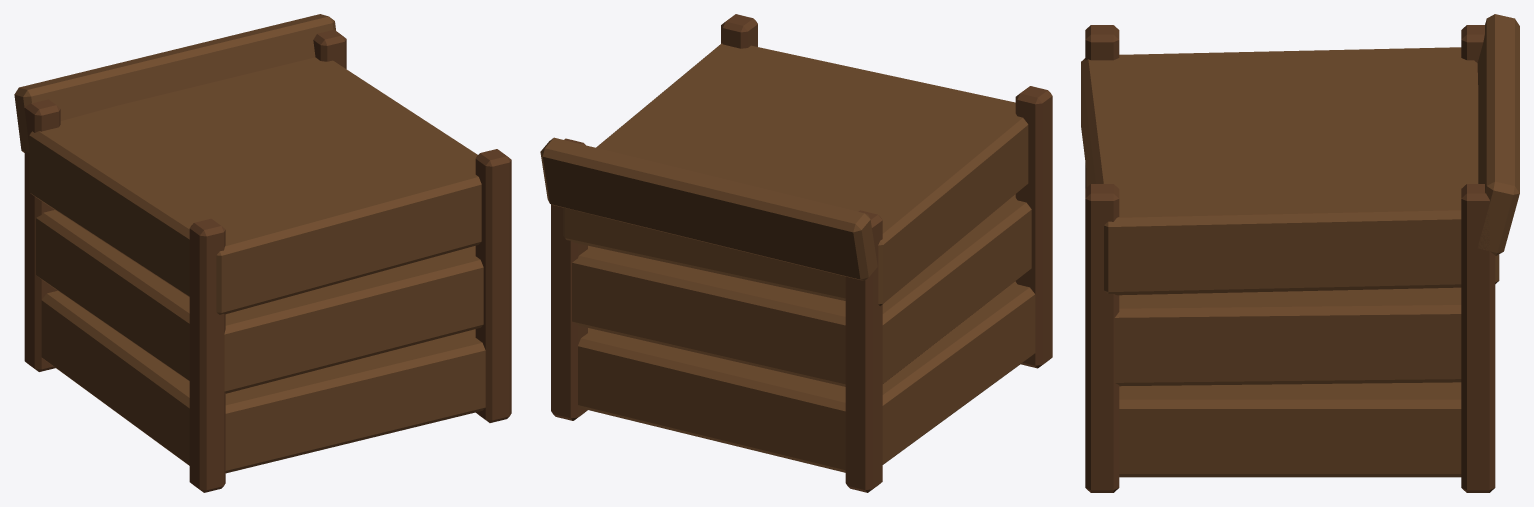
The model's file is park_crate.glb.
The picture shows the model from 3 angles, left to right: view 1: azimuth 30°, elevation 25°; view 2: azimuth 150°, elevation 25°; view 3: azimuth 270°, elevation 25°; orthographic projection. The views are drawn at different scales.
Visible parts, largest first — view 1: park_crate; view 2: park_crate; view 3: park_crate.
Part boxes in pixels (box(x1,y1,x2,y2)): park_crate: box(14, 14, 511, 492); park_crate: box(540, 14, 1052, 492); park_crate: box(1081, 14, 1519, 492).
Bounding box in the file's own units: 0.7344 × 0.6023 × 0.7704.
